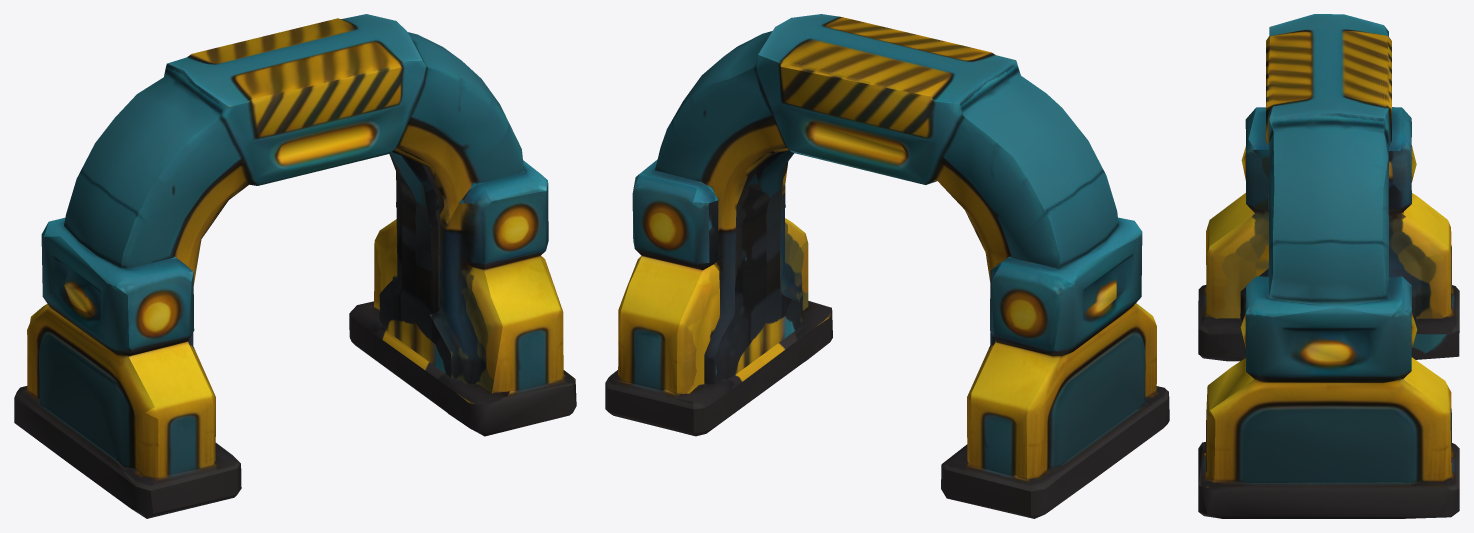
File: Obs6.fbx
3 views of the same model, side by side, from view 1: azimuth 30°, elevation 25°; view 2: azimuth 150°, elevation 25°; view 3: azimuth 270°, elevation 25° (orthographic). The views are drawn at different scales.
Visible parts, largest first — view 1: tmpbpzlrajt.ply; view 2: tmpbpzlrajt.ply; view 3: tmpbpzlrajt.ply.
Boxes of the visible parts, x1,y1,x2,y2 form: tmpbpzlrajt.ply: [14, 14, 576, 518]; tmpbpzlrajt.ply: [605, 14, 1169, 518]; tmpbpzlrajt.ply: [1198, 14, 1459, 518].
Bounding box in the file's own units: 199 × 160 × 106.
1 material, 1 textured.
